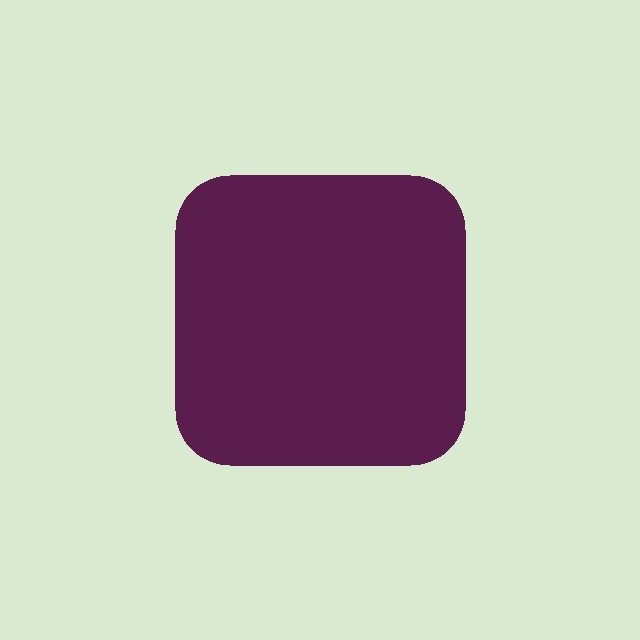square: (174, 174, 466, 466)
